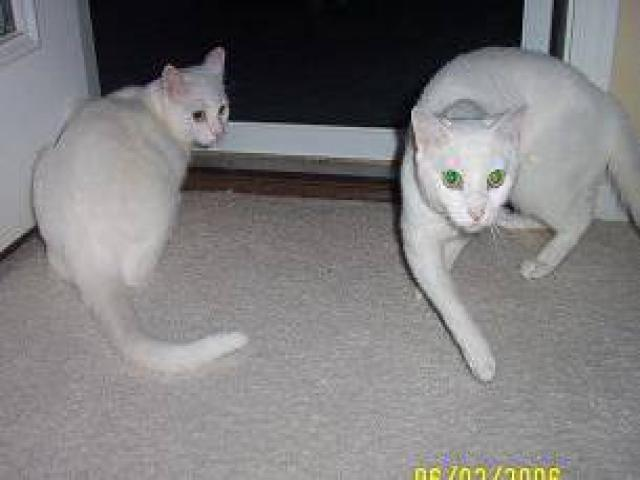cat: (391, 41, 635, 380), (18, 41, 234, 377)
